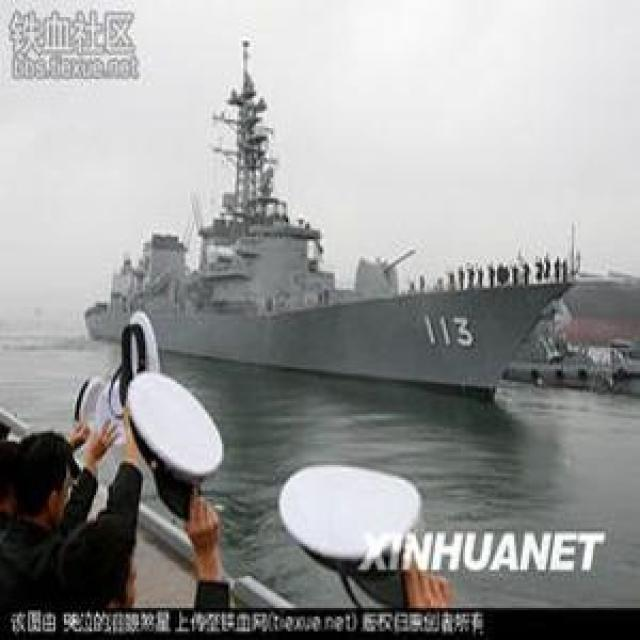navalvessels: (61, 38, 582, 410)
